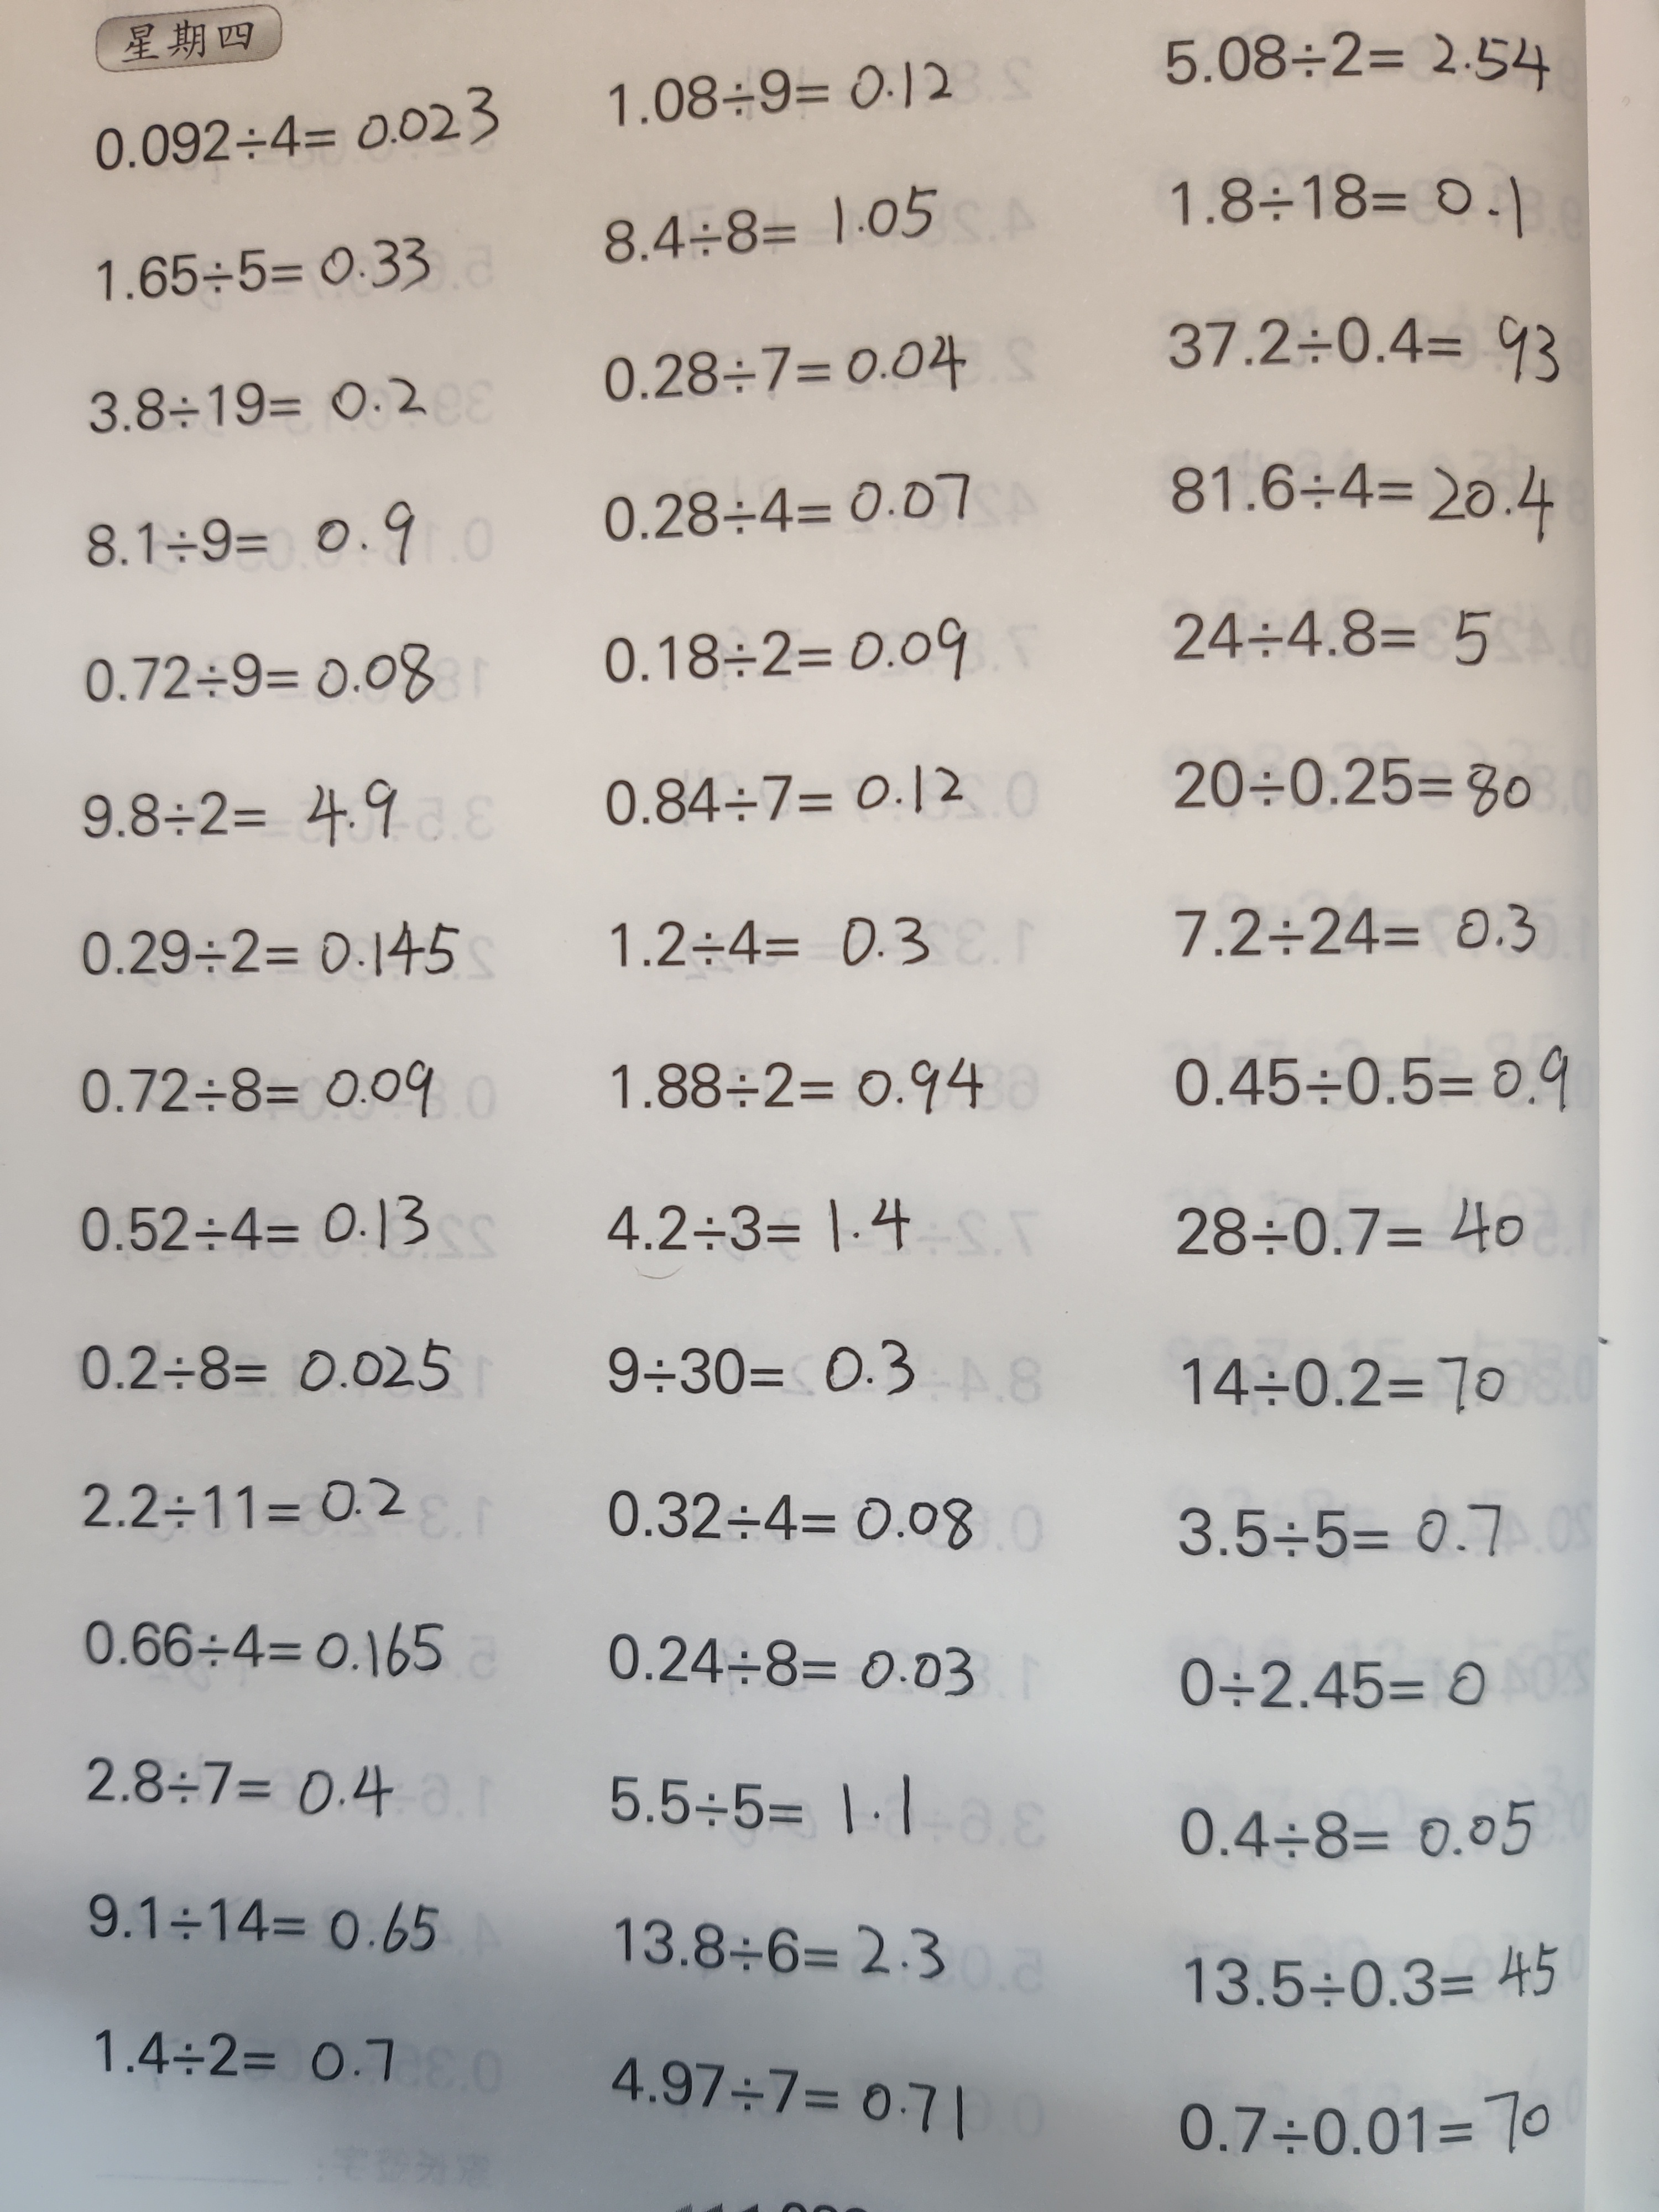equation: (603, 2029, 986, 2168), (1152, 885, 1584, 993), (1155, 2062, 1560, 2175), (580, 596, 983, 704), (1161, 148, 1539, 261), (78, 78, 511, 176), (1155, 1033, 1586, 1130), (1155, 300, 1563, 399), (1152, 449, 1556, 549), (594, 455, 978, 557), (587, 1042, 990, 1137), (1150, 17, 1560, 111), (598, 320, 978, 421), (599, 1465, 978, 1566), (66, 899, 472, 993), (63, 759, 415, 866), (75, 1876, 465, 1972), (78, 1996, 416, 2106), (68, 1038, 441, 1137), (1164, 587, 1506, 695), (1182, 1928, 1568, 2022), (66, 1604, 455, 1696), (1162, 1345, 1523, 1442), (1161, 742, 1539, 834), (586, 1620, 978, 1709), (78, 488, 420, 589), (606, 185, 958, 282), (592, 1895, 948, 1991), (1150, 1789, 1551, 1872), (56, 1181, 446, 1266), (1164, 1188, 1532, 1278), (61, 1336, 472, 1416), (579, 754, 978, 836), (1150, 1637, 1502, 1730), (594, 902, 950, 991), (1162, 1496, 1516, 1585), (73, 631, 439, 716), (594, 56, 971, 138), (87, 223, 444, 308), (78, 1731, 394, 1827), (73, 366, 439, 448), (75, 1460, 423, 1543), (599, 1322, 920, 1411), (598, 1764, 920, 1848), (587, 1190, 927, 1264)
